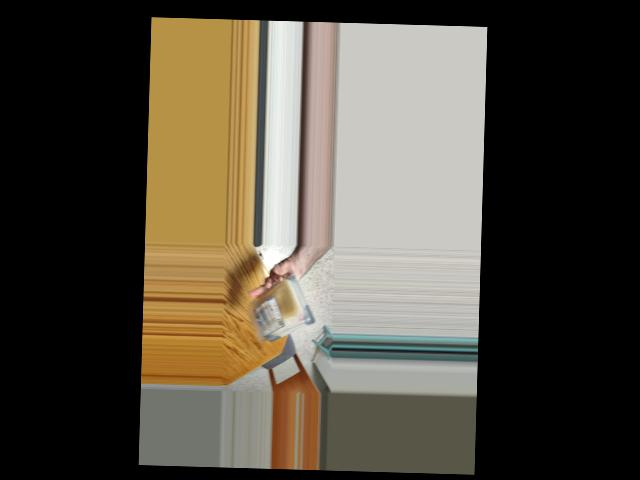cheese: (254, 275, 311, 348)
